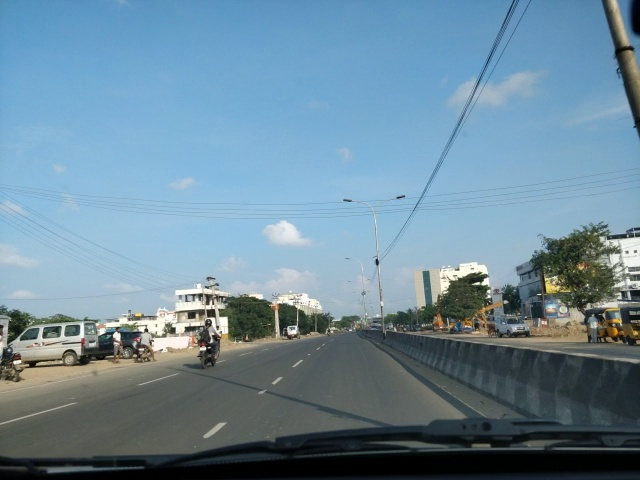auto: (580, 305, 622, 343), (625, 301, 638, 339)
car: (5, 320, 102, 360), (88, 327, 144, 360), (492, 316, 530, 334), (284, 324, 304, 342)
motorbike: (190, 318, 226, 366), (1, 343, 26, 382)
person: (110, 321, 127, 366)
